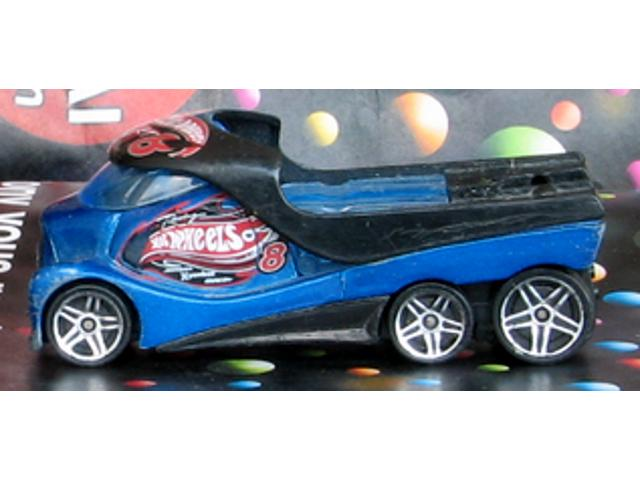toy-car: (25, 108, 607, 371)
